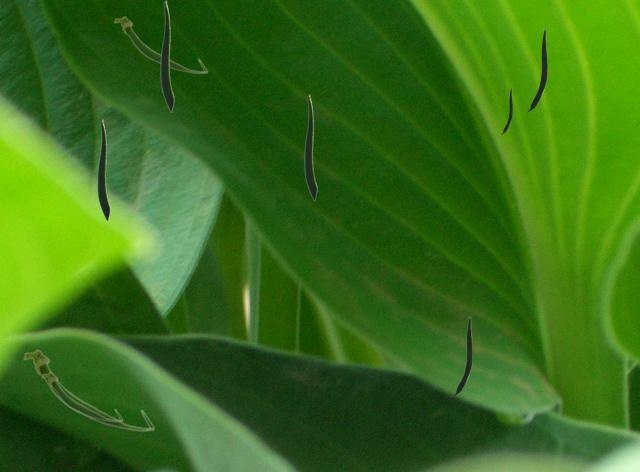french_bean: (22, 349, 154, 431), (113, 15, 207, 73), (41, 371, 122, 421), (526, 29, 546, 111), (452, 317, 471, 395), (160, 0, 173, 111), (304, 94, 316, 200), (97, 119, 109, 220), (501, 88, 511, 133)
